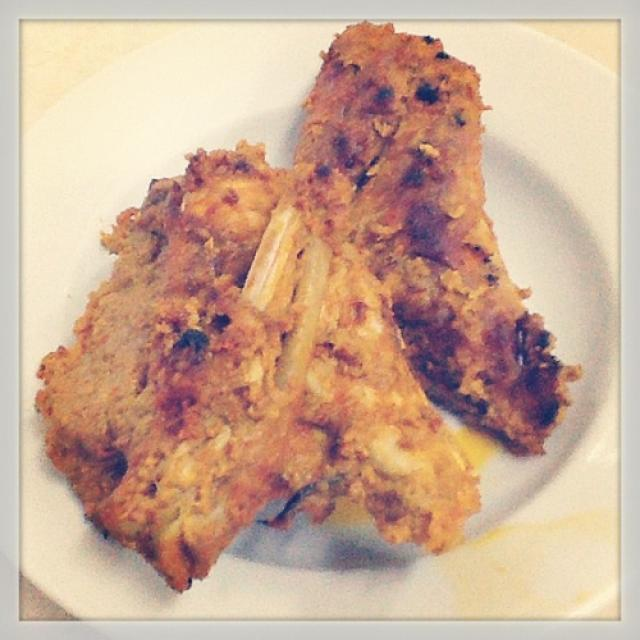鸡肉料理 含炸鸡: (37, 35, 589, 599)
